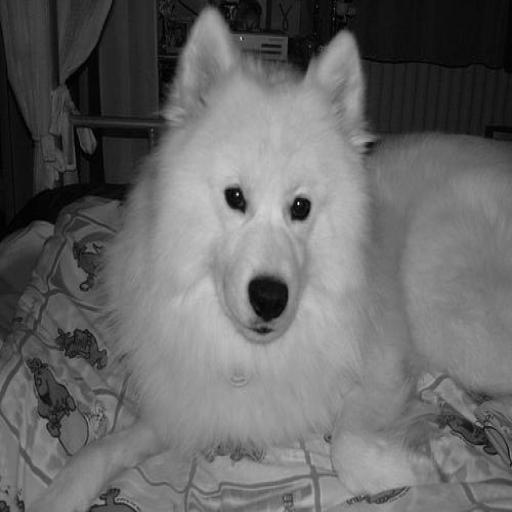dog_face: (171, 10, 363, 341)
